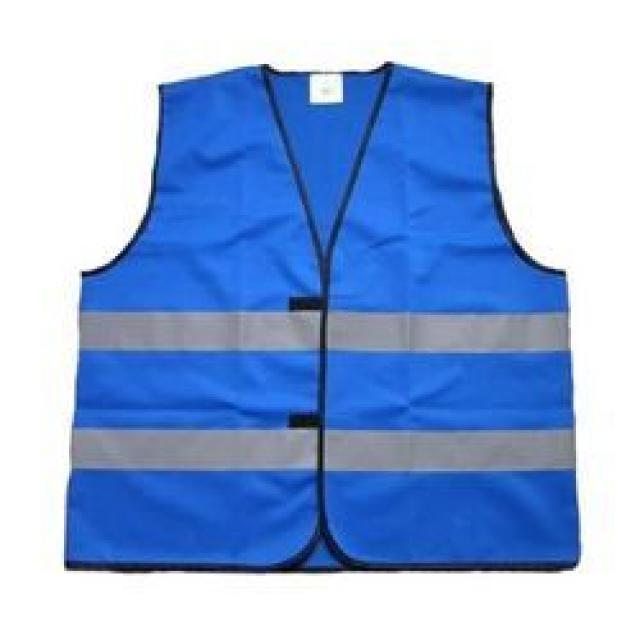reflective_jacket: (25, 35, 624, 581)
